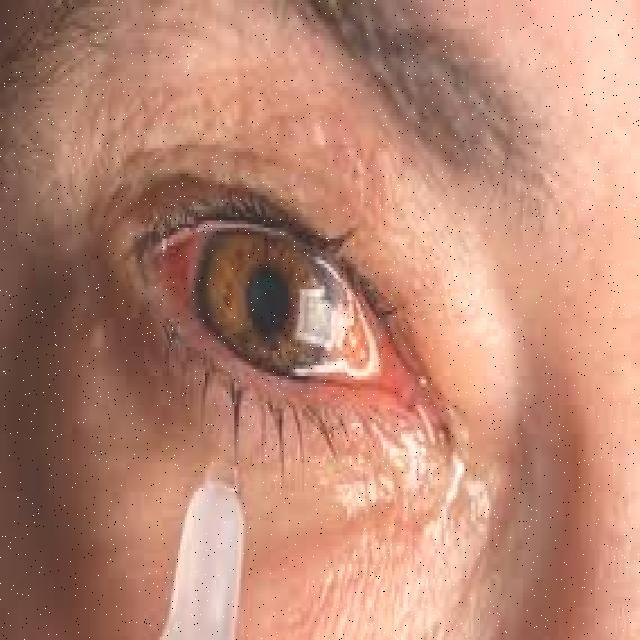Conjunctivitis: (150, 225, 427, 411)
